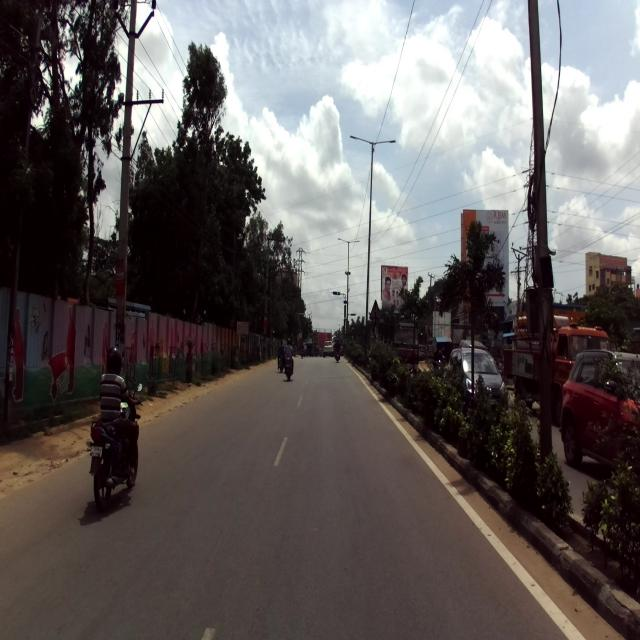car: (445, 346, 508, 411)
motorcycle: (86, 383, 144, 507)
